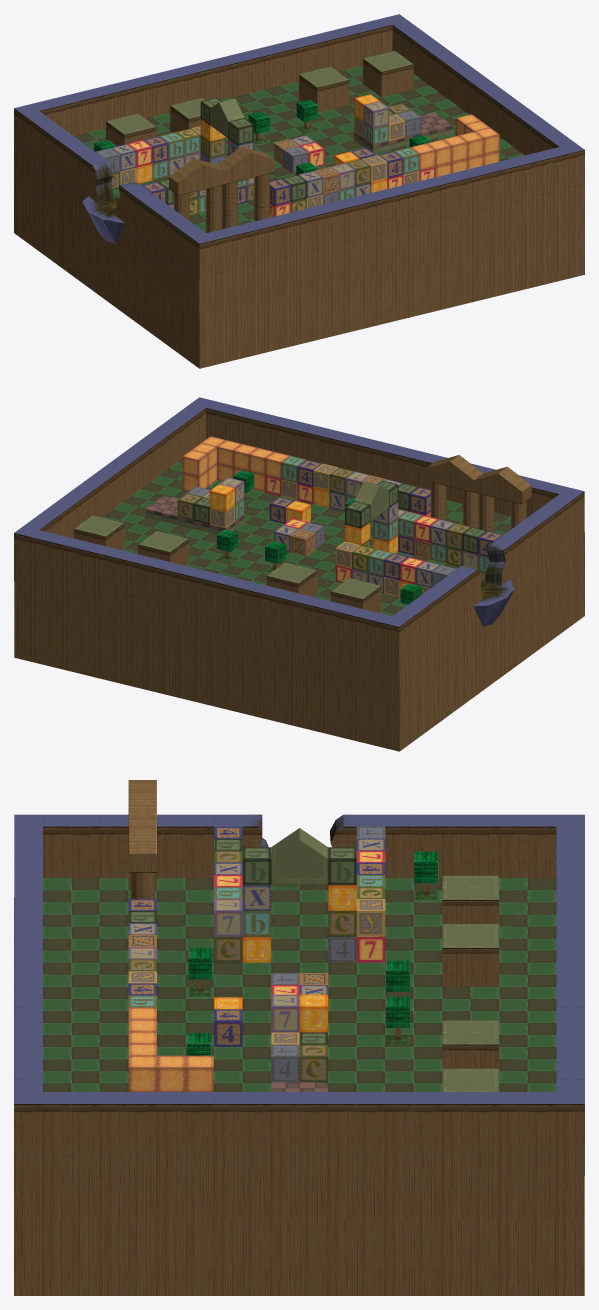
The model's file is test-zone2.glb.
The picture shows the model from 3 angles, top to bottom: view 1: azimuth 30°, elevation 25°; view 2: azimuth 150°, elevation 25°; view 3: azimuth 270°, elevation 25°; orthographic projection. The views are drawn at different scales.
Visible parts, largest first — view 1: Frame_0; view 2: Frame_0; view 3: Frame_0.
Part boxes in pixels (box(x1,y1,x2,y2)): Frame_0: box(14, 14, 584, 368); Frame_0: box(14, 397, 584, 751); Frame_0: box(14, 780, 584, 1295).
Bounding box in the file's own units: 125 × 50.87 × 100.
1 material, 1 textured.
